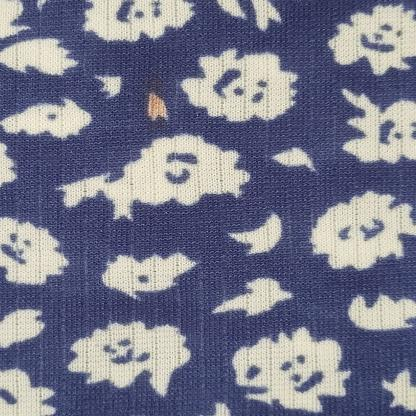spot: (142, 68, 173, 121)
